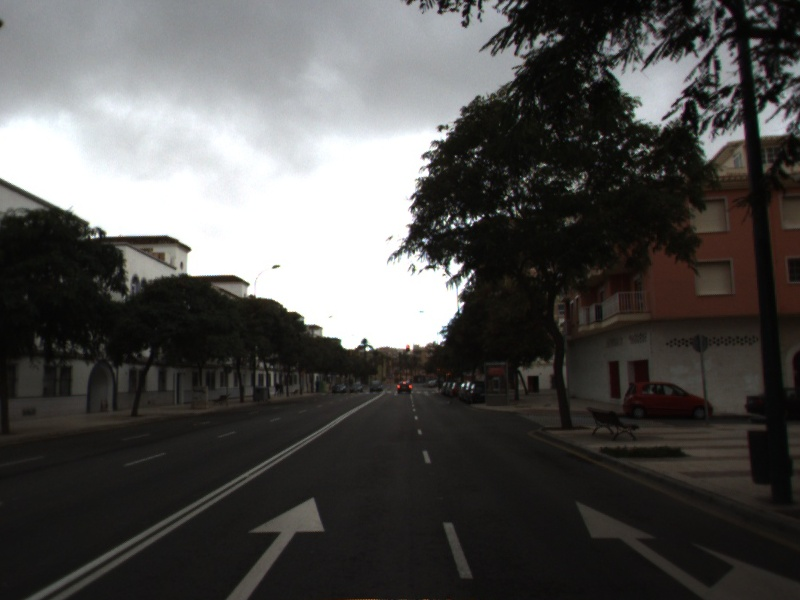STRAIGHT: (223, 494, 327, 600)
STRAIGHT_RIGHT: (572, 499, 800, 600)
